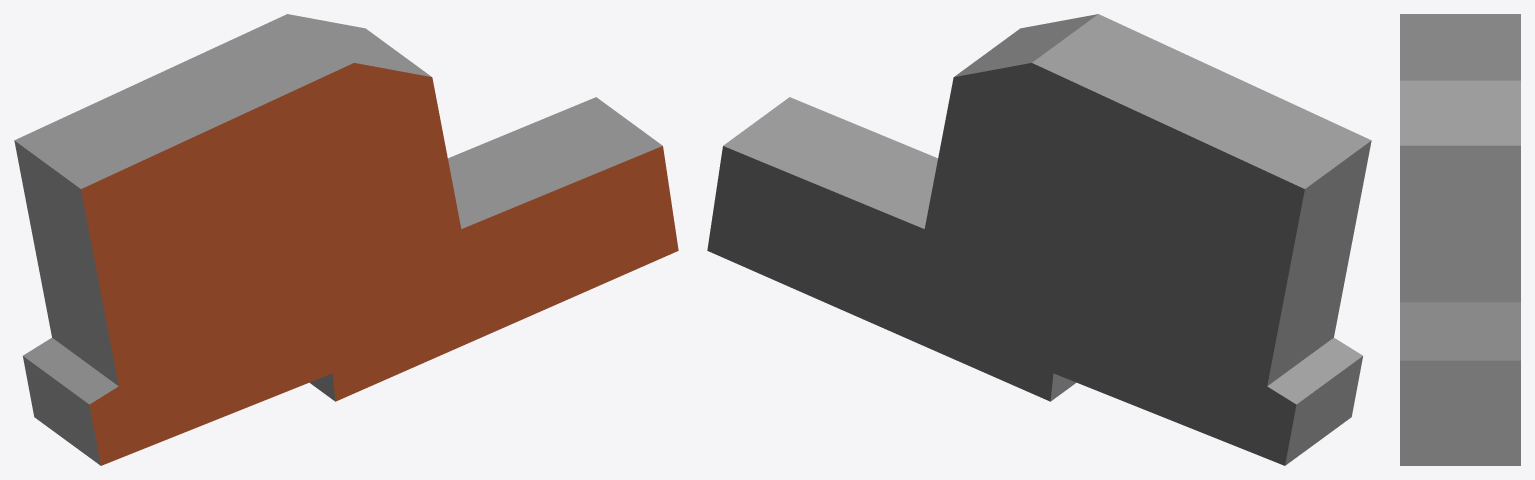
The model's file is construction_2449_assumed_A_Casa_h6m.obj.
3 renders of one model, left to right at view 1: azimuth 30°, elevation 25°; view 2: azimuth 150°, elevation 25°; view 3: azimuth 270°, elevation 25°, orthographic. The views are drawn at different scales.
Visible parts, largest first — view 1: construction_2449_assumed_A_Casa; view 2: construction_2449_assumed_A_Casa; view 3: construction_2449_assumed_A_Casa.
Part boxes in pixels (<box>): construction_2449_assumed_A_Casa: <box>14,14,678,465</box>; construction_2449_assumed_A_Casa: <box>707,14,1371,465</box>; construction_2449_assumed_A_Casa: <box>1400,14,1520,465</box>.
Size of the model in its own units: 31.03 by 16.94 by 6.
